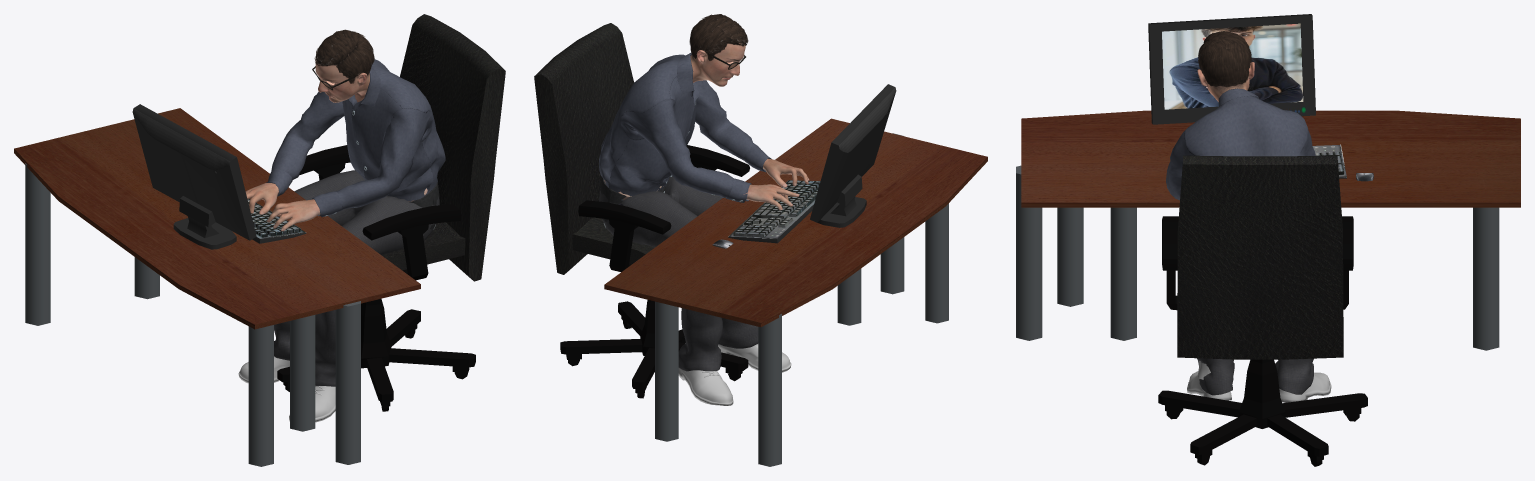
The picture shows the model from 3 angles, left to right: view 1: azimuth 30°, elevation 25°; view 2: azimuth 150°, elevation 25°; view 3: azimuth 270°, elevation 25°; orthographic projection. The views are drawn at different scales.
Parts seen in each view (by area): view 1: pasted__Body; view 2: pasted__Body; view 3: pasted__Body.
Boxes of the visible parts, box(x1,y1,x2,y2) form: pasted__Body: box(14, 14, 505, 466); pasted__Body: box(534, 14, 987, 466); pasted__Body: box(1016, 14, 1520, 466).
Bounding box in the file's own units: 311 × 313 × 376.
Materials: 14 (12 with a texture image).
